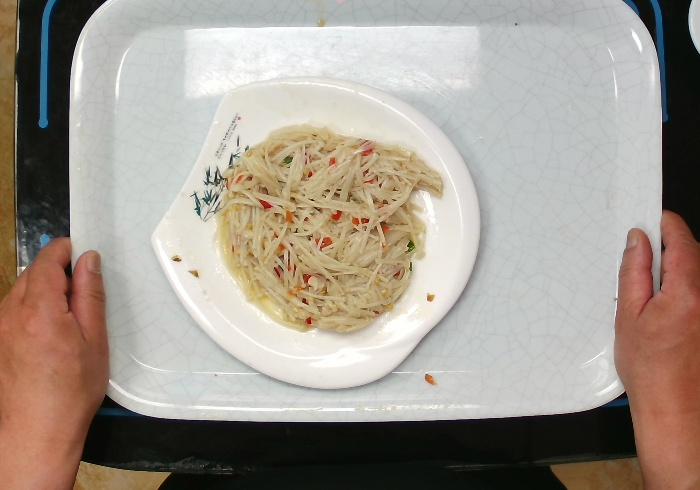JYsf-Mian_Pan: (146, 69, 486, 395)
